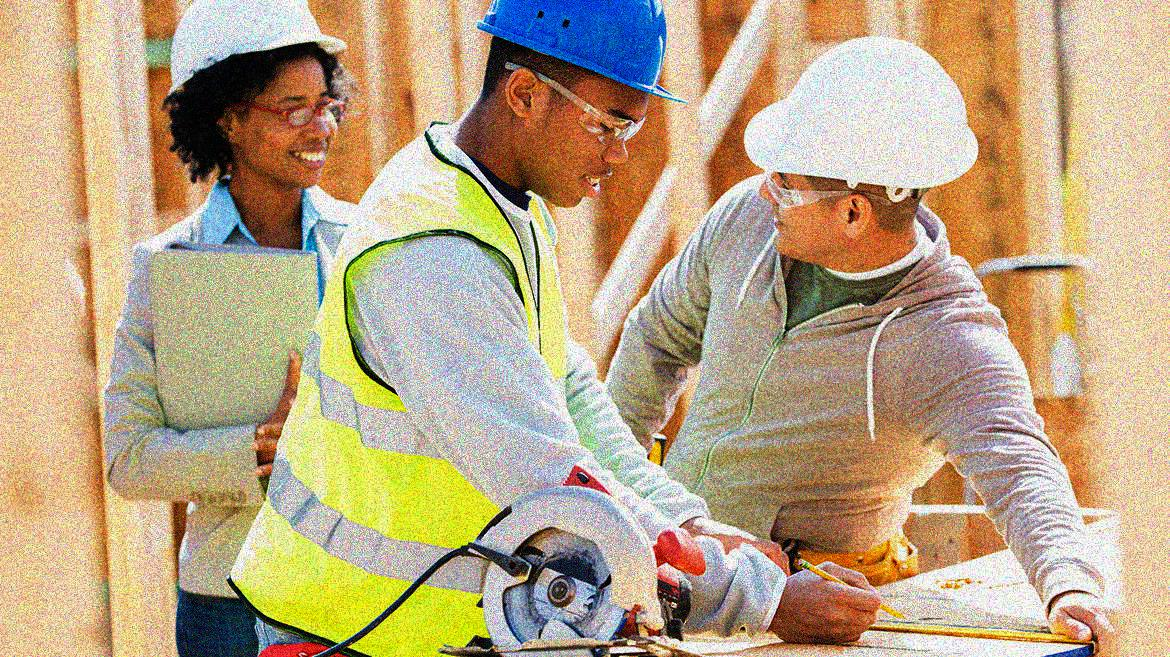helmet: (742, 34, 981, 268), (476, 1, 687, 208), (167, 1, 352, 189)
